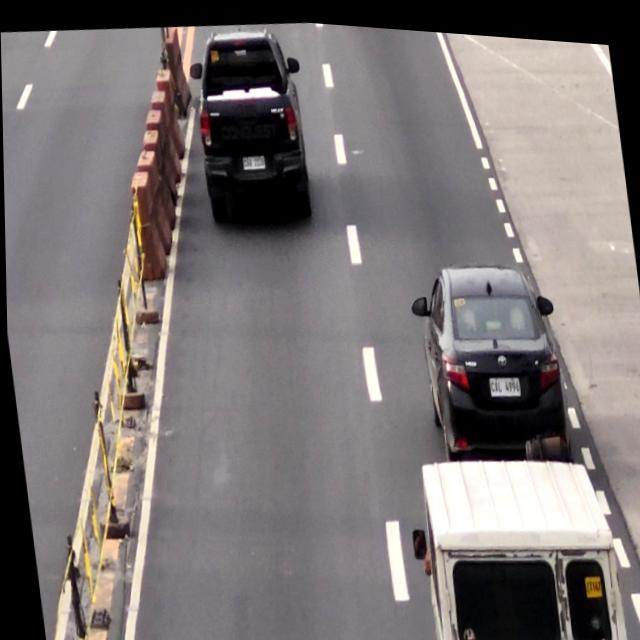Car: (413, 249, 573, 460), (187, 22, 311, 233)
License-Plate: (485, 363, 520, 395), (241, 149, 266, 171)
